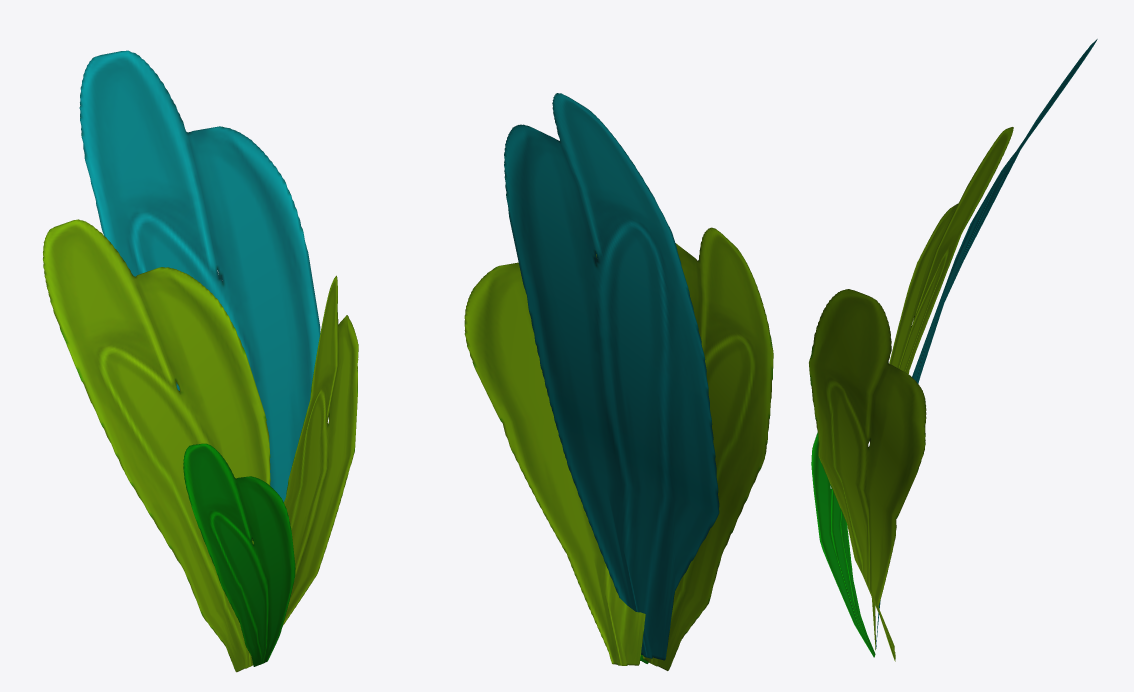
File: 16_Arbusto_Grande.fbx
3 renders of one model, left to right at view 1: azimuth 30°, elevation 25°; view 2: azimuth 150°, elevation 25°; view 3: azimuth 270°, elevation 25°, orthographic. The views are drawn at different scales.
Parts seen in each view (by area): view 1: Follage.086; view 2: Follage.086; view 3: Follage.086.
Boxes of the visible parts, x1,y1,x2,y2 form: Follage.086: (43, 50, 358, 672); Follage.086: (464, 93, 773, 670); Follage.086: (809, 39, 1097, 661).
Bounding box in the file's own units: 54.23 × 92.19 × 42.62.
